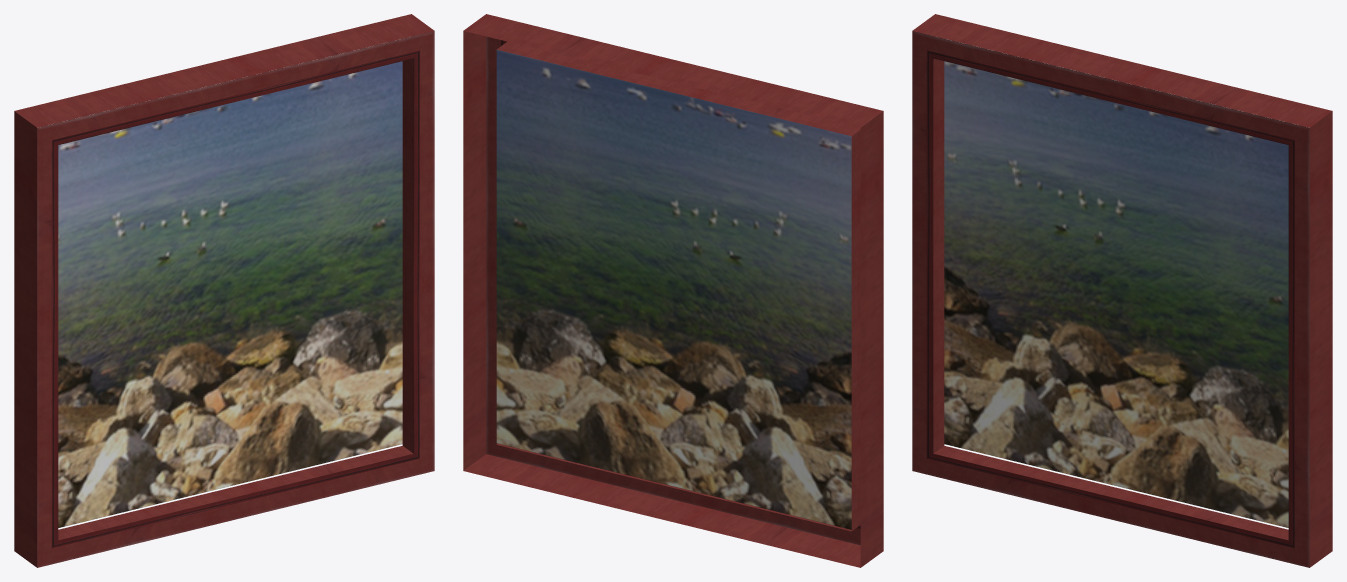
File: Paint08.fbx
3 views of the same model, side by side, from view 1: azimuth 30°, elevation 25°; view 2: azimuth 150°, elevation 25°; view 3: azimuth 330°, elevation 25° (orthographic).
Visible parts, largest first — view 1: Mesh; view 2: Mesh; view 3: Mesh.
Boxes of the visible parts, left/top/right/bottom form: Mesh: left=14, top=14, right=434, bottom=567; Mesh: left=463, top=14, right=883, bottom=567; Mesh: left=912, top=14, right=1332, bottom=567.
Size of the model in its own units: 94.5 by 100 by 9.5.
